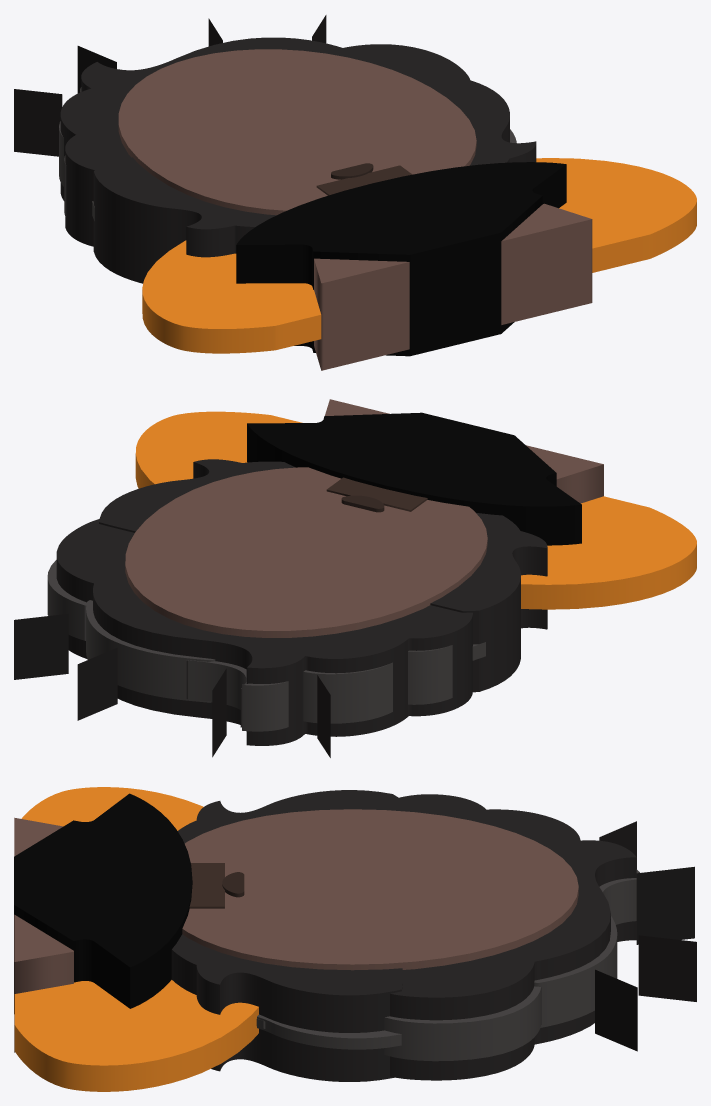
The model's file is emoji_u1f647_1f3ff.glb.
The picture shows the model from 3 angles, top to bottom: view 1: azimuth 30°, elevation 25°; view 2: azimuth 150°, elevation 25°; view 3: azimuth 270°, elevation 25°; orthographic projection. The views are drawn at different scales.
Parts seen in each view (by area): view 1: emoji_u1f647_1f3ff; view 2: emoji_u1f647_1f3ff; view 3: emoji_u1f647_1f3ff.
Boxes of the visible parts, bbox=[...] form: emoji_u1f647_1f3ff: bbox=[14, 15, 696, 370]; emoji_u1f647_1f3ff: bbox=[14, 399, 696, 757]; emoji_u1f647_1f3ff: bbox=[14, 787, 696, 1091].
Bounding box in the file's own units: 0.0317 × 0.0058 × 0.0328.
